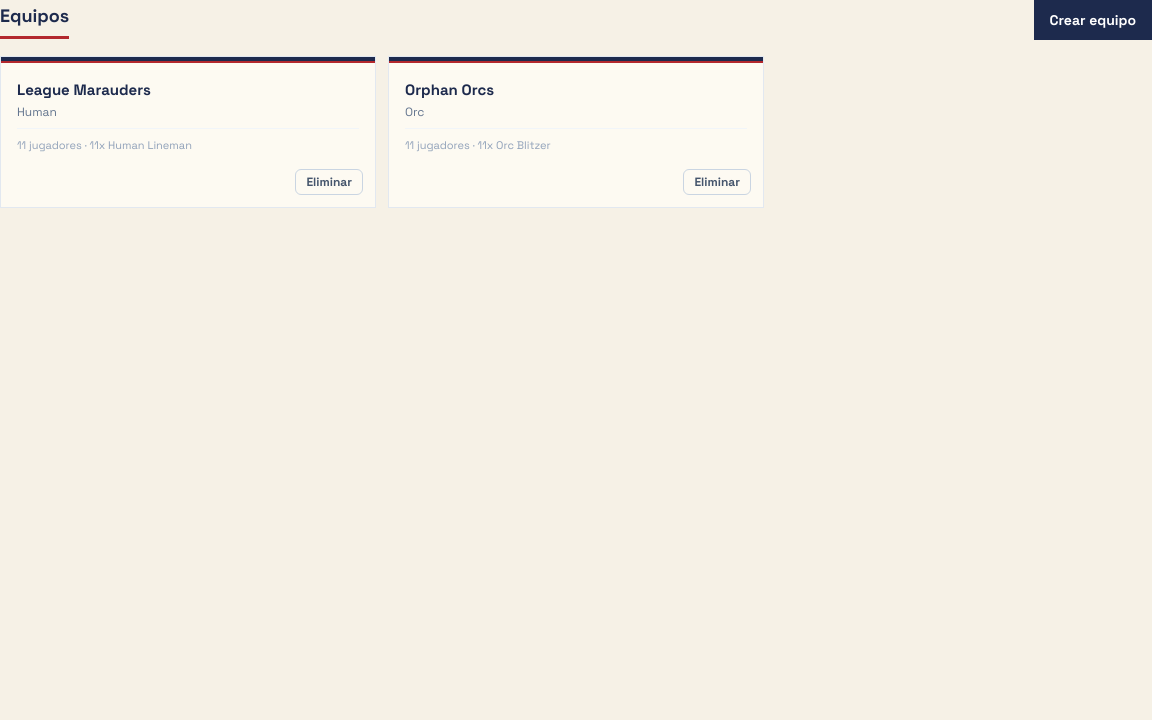
Test: TeamList — archive-guard (409) surface › shows the guard message and keeps the team when delete is blocked with a 409
Expected: the heading "League Marauders" is shown, left=17, top=80, right=151, bottom=99
Click the button with aria-label "Eliminar League Marauders" at (329, 182), box left=295, top=169, right=363, bottom=195
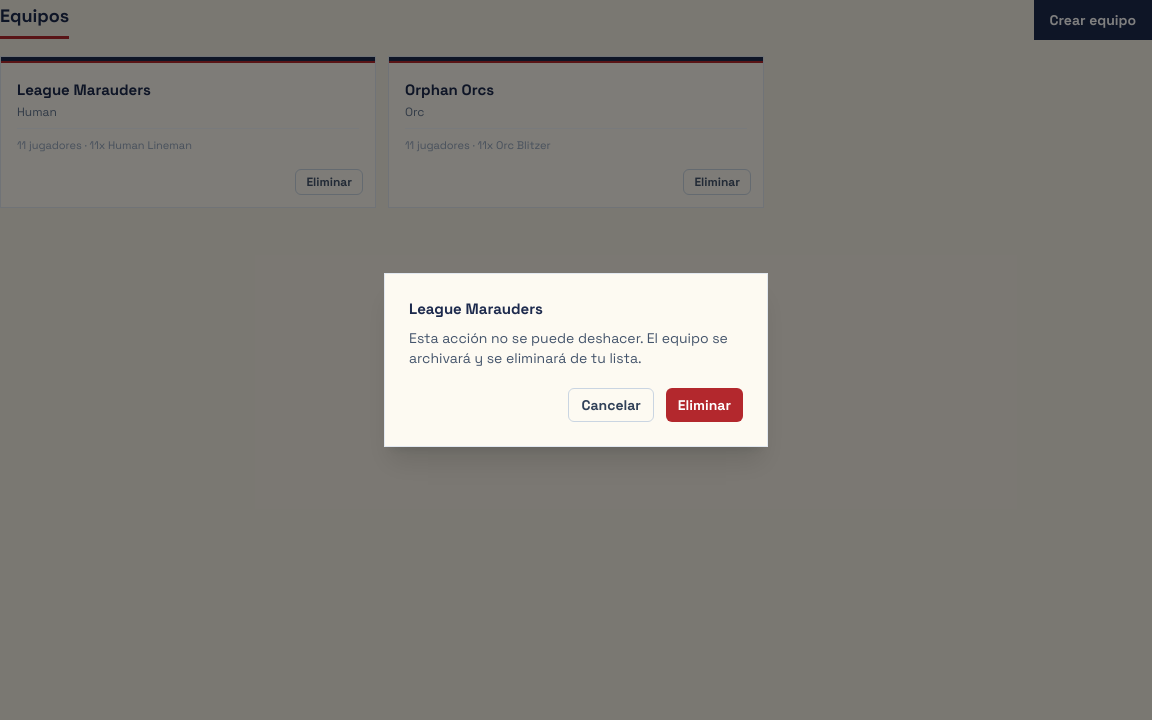
Click the button "Eliminar" at (704, 405), box left=666, top=388, right=743, bottom=422
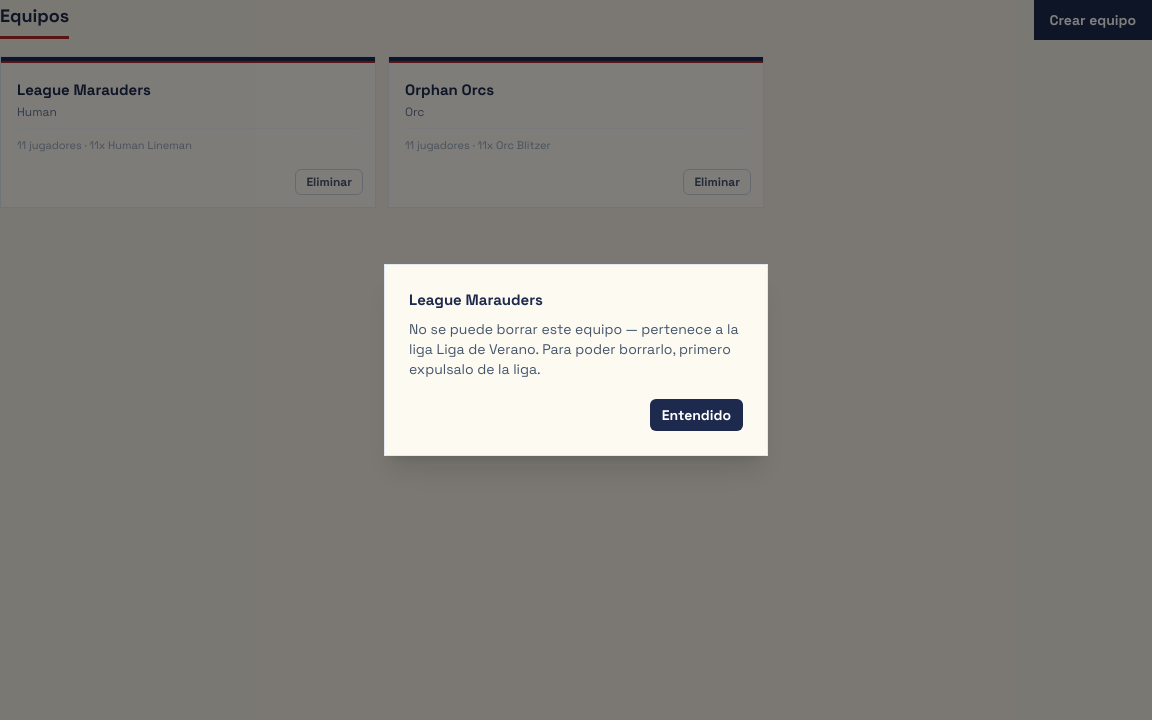
Result: the text "No se puede borrar este equipo — pertenece a la liga Liga de Verano. Para poder borrarlo, primero expulsalo de la liga." is shown at left=409, top=320, right=738, bottom=378
Result: the button "Entendido" is shown
# Entendido closes the dialog and the team stays in the list.
Click the button "Entendido" at (696, 415), box left=650, top=399, right=743, bottom=431
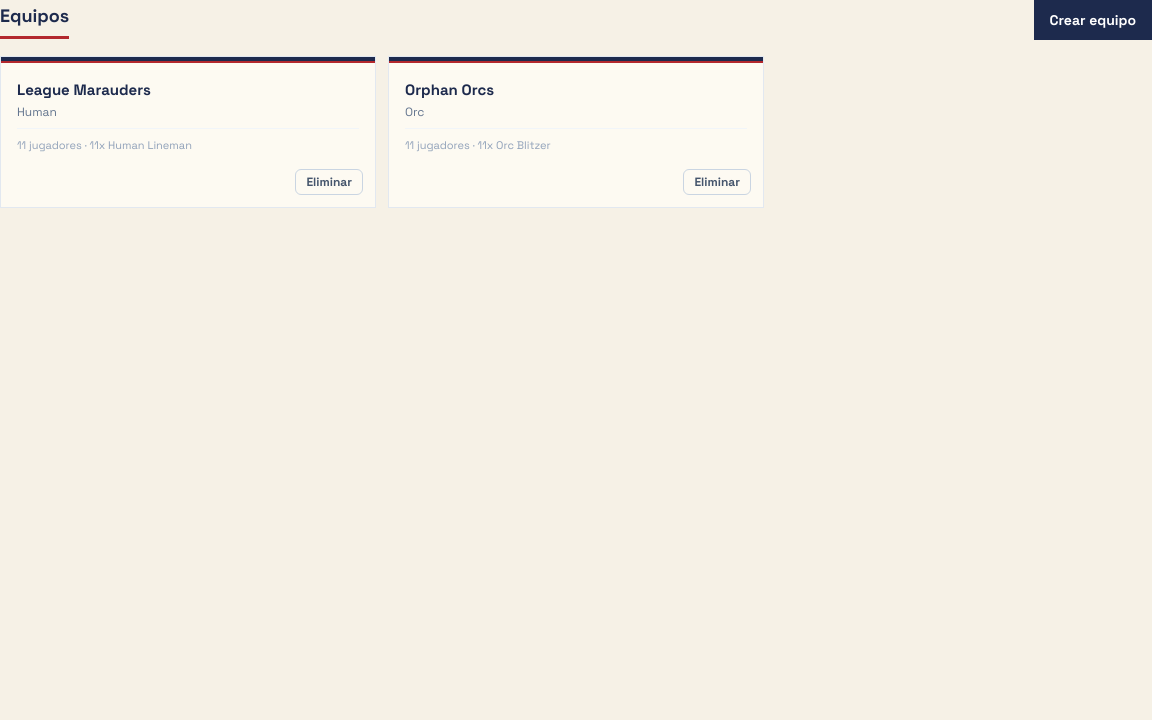
Expected: the number of links "League Marauders Human 11 jugadores · 11x Human Lineman" is 1, left=1, top=63, right=375, bottom=169
Result: the dialog is gone
